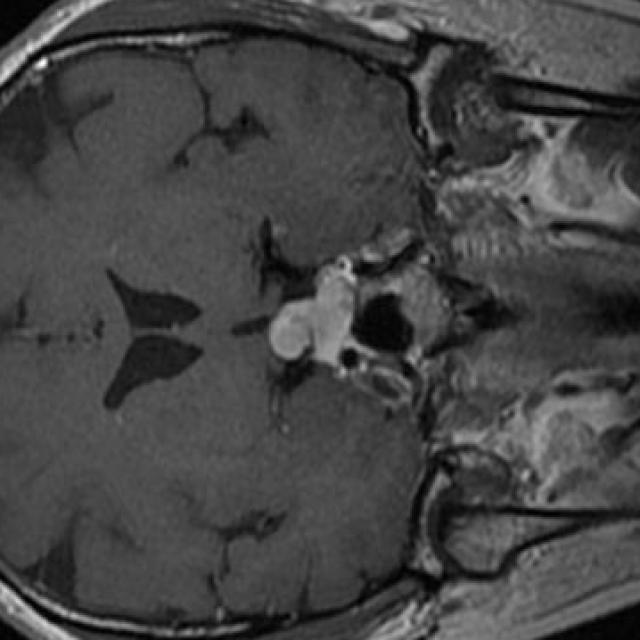pituitary: (267, 264, 357, 364)
